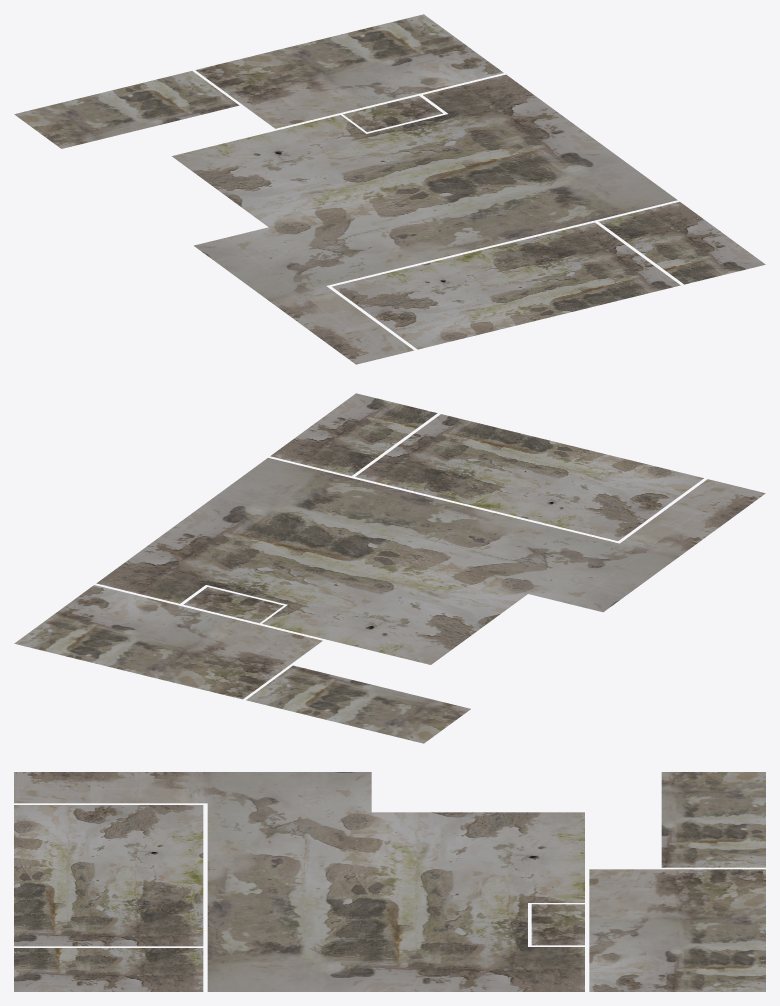
Rendered from A2_H1_Ceiling.FBX.
The picture shows the model from 3 angles, top to bottom: view 1: azimuth 30°, elevation 25°; view 2: azimuth 150°, elevation 25°; view 3: azimuth 270°, elevation 25°; orthographic projection. The views are drawn at different scales.
Parts seen in each view (by area): view 1: A2_H1_Ceiling; view 2: A2_H1_Ceiling; view 3: A2_H1_Ceiling.
Part boxes in pixels (x1,y1,x2,y2): A2_H1_Ceiling: [14, 14, 765, 364]; A2_H1_Ceiling: [14, 393, 765, 743]; A2_H1_Ceiling: [14, 772, 765, 991].
Size of the model in its own units: 1800 by 0.000153 by 2602.
